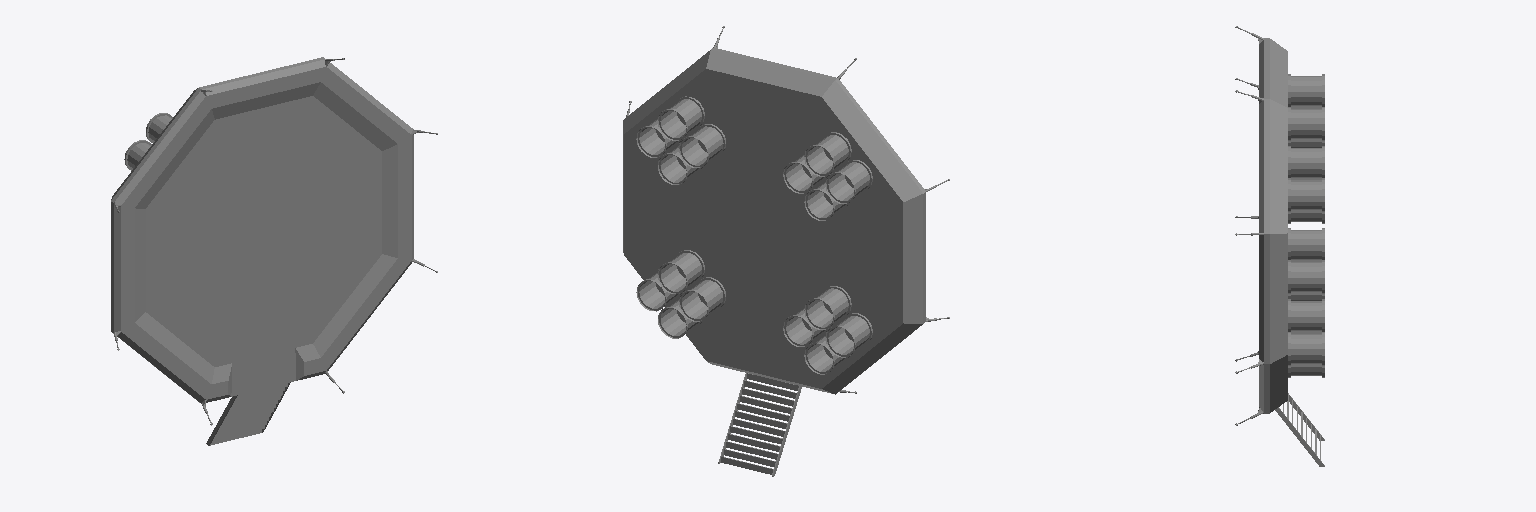
The model's file is LandingPad.obj.
3 renders of one model, left to right at view 1: azimuth 30°, elevation 25°; view 2: azimuth 150°, elevation 25°; view 3: azimuth 270°, elevation 25°, orthographic.
Parts seen in each view (by area): view 1: SM_LandingPad_E; view 2: SM_LandingPad_E; view 3: SM_LandingPad_E.
Boxes of the visible parts, box(x1,y1,x2,y2) form: SM_LandingPad_E: box(111, 57, 437, 445); SM_LandingPad_E: box(623, 26, 949, 476); SM_LandingPad_E: box(1235, 26, 1324, 466).
Size of the model in its own units: 603 by 711 by 145.